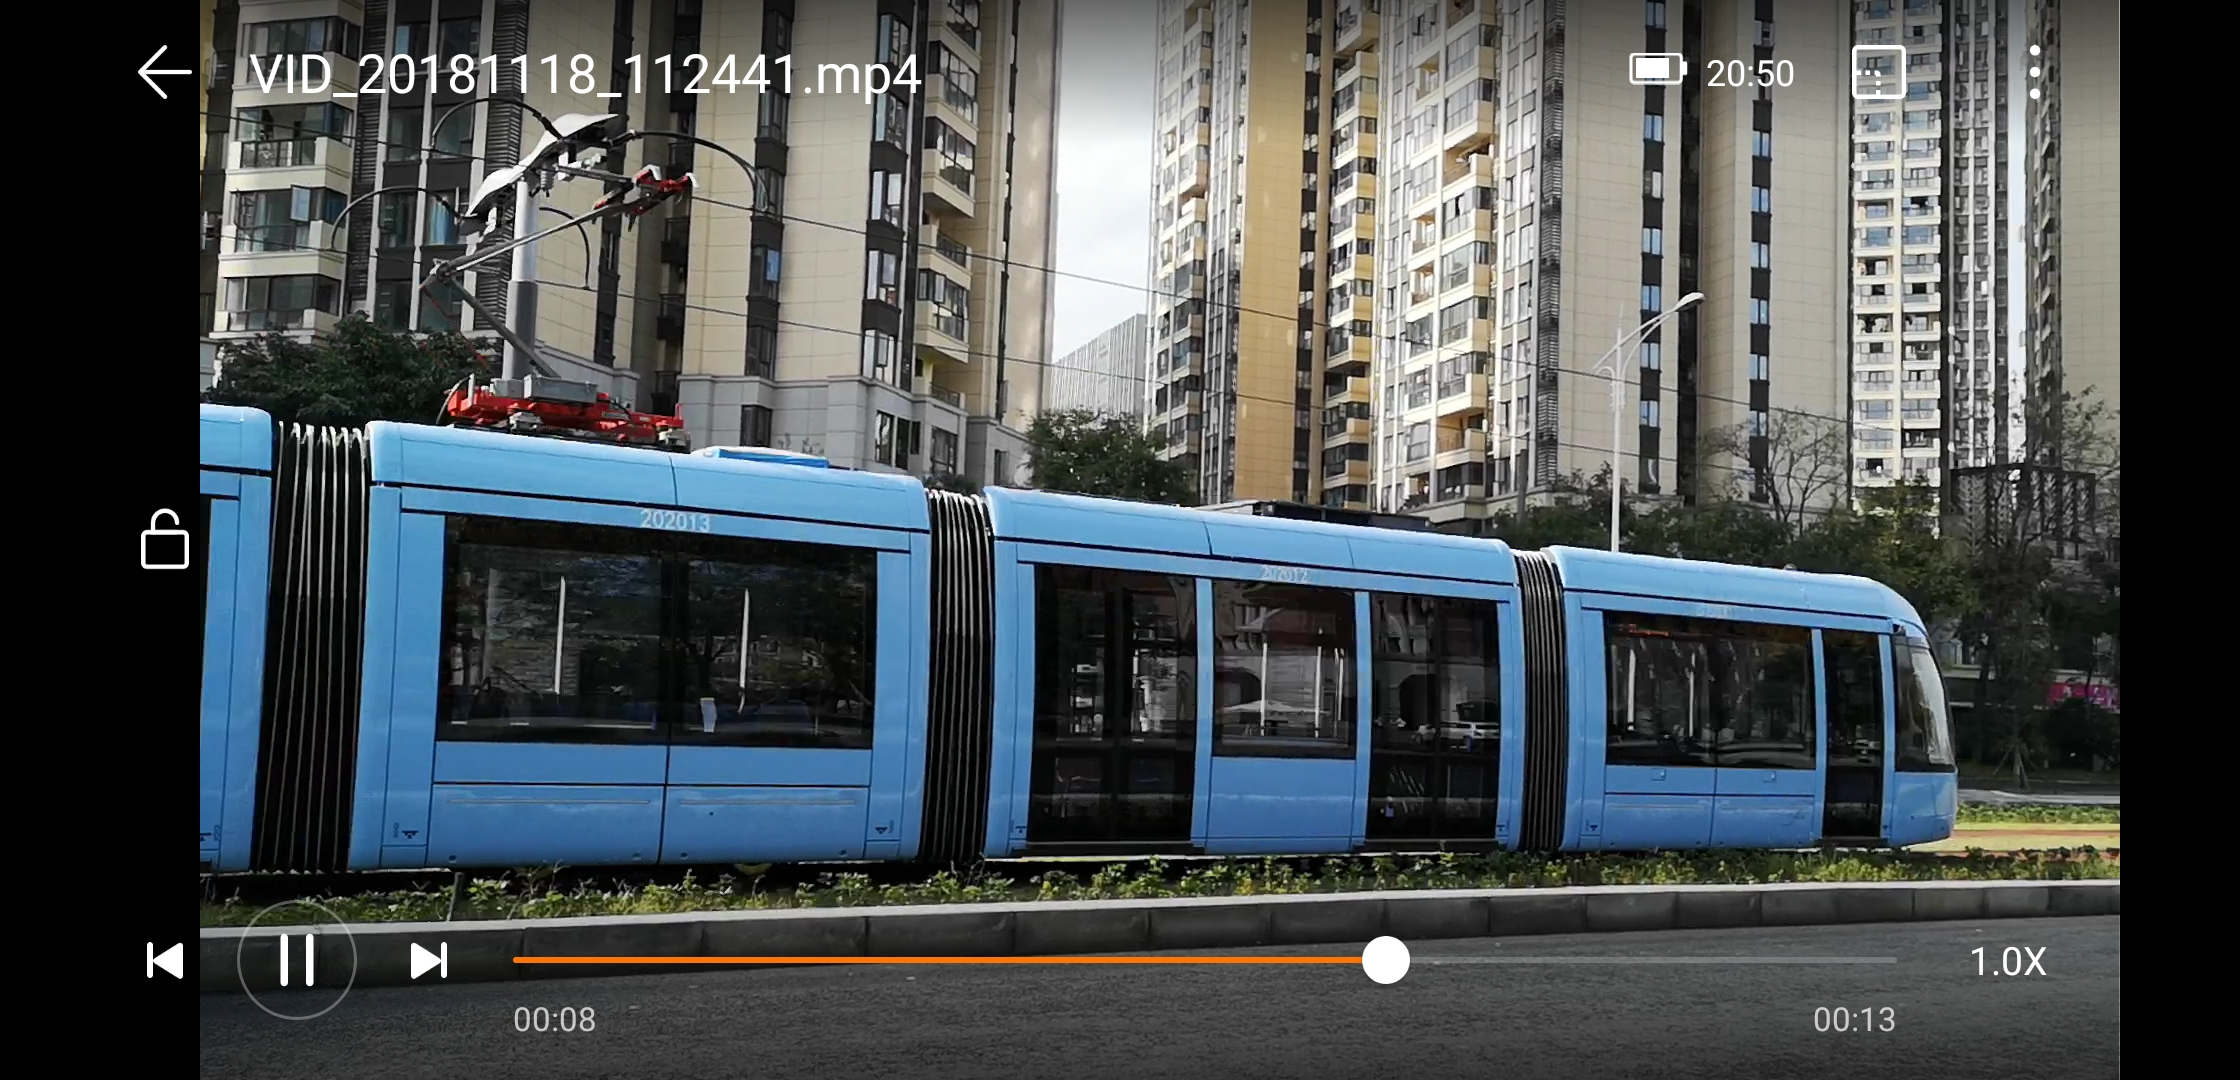car: (193, 376, 1993, 889)
